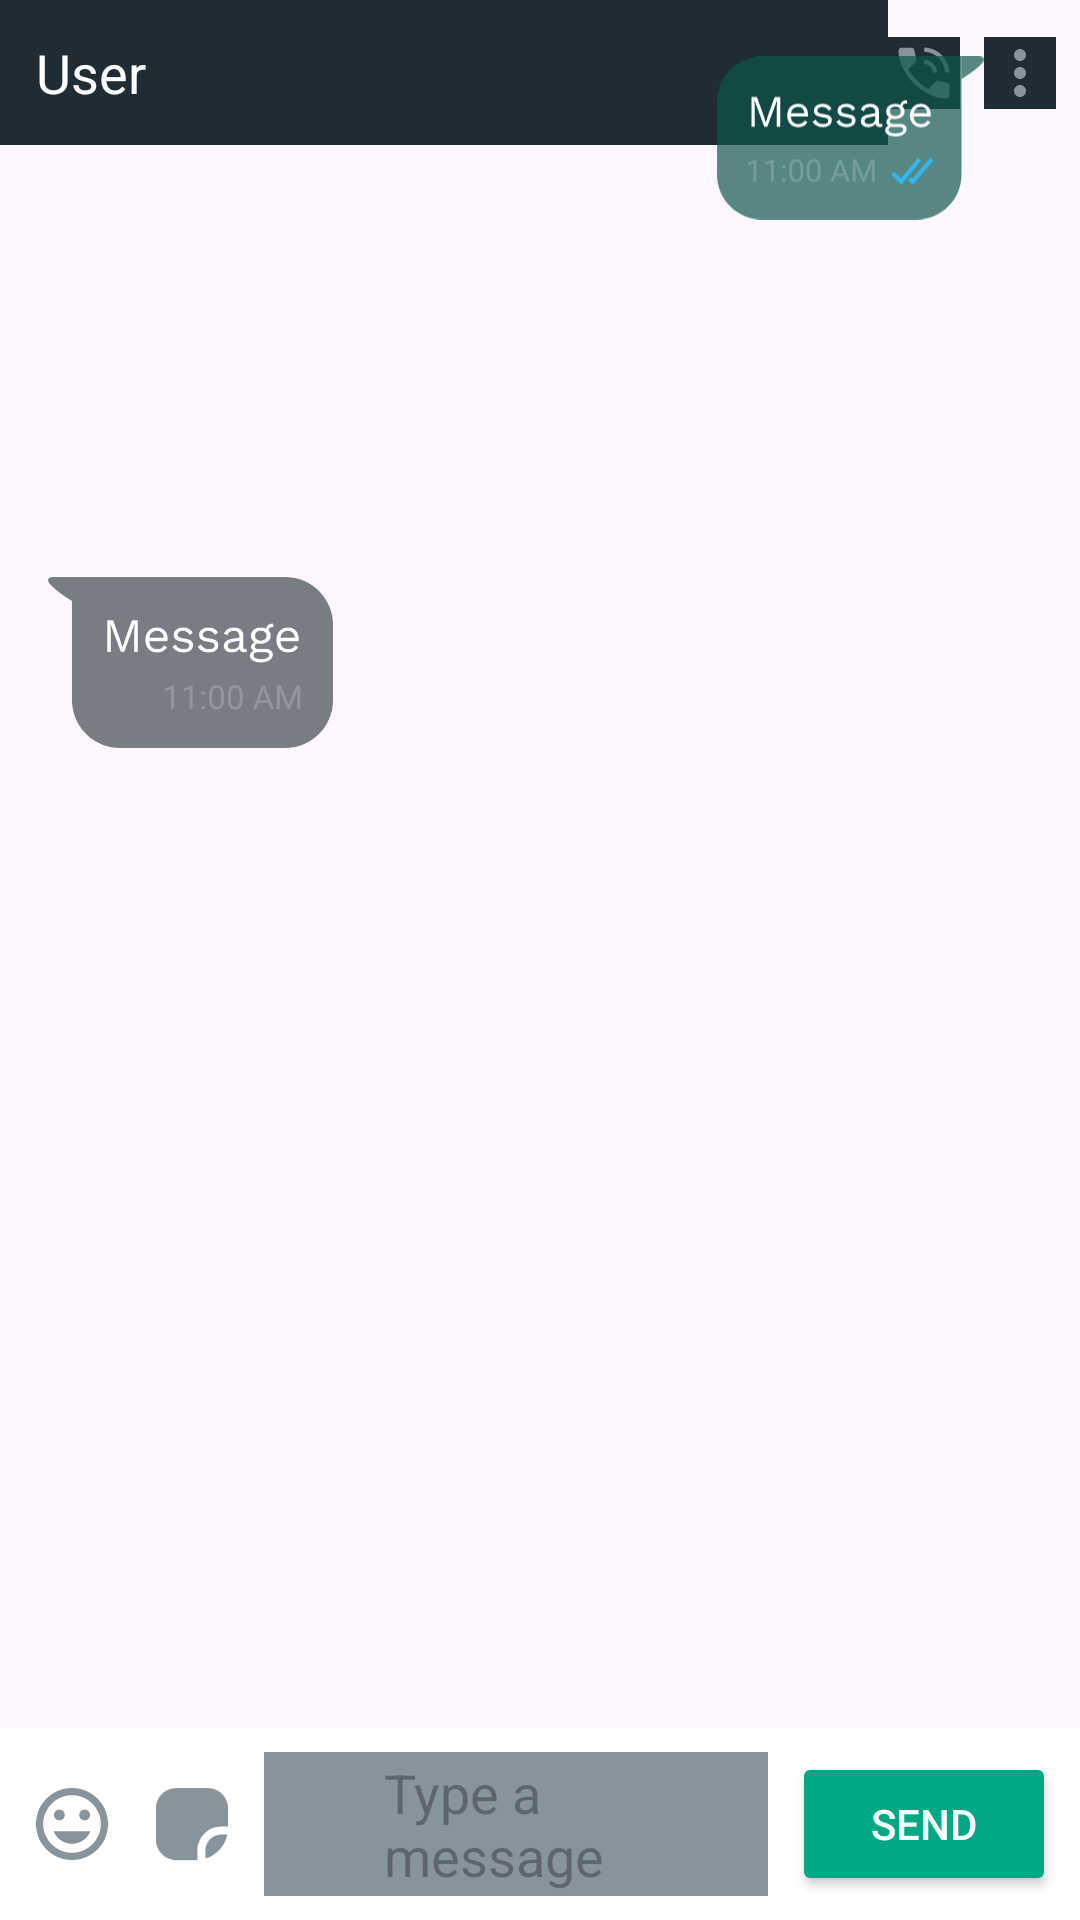

Named icons in this screenshot (1080w x 1920h) and their centers, (x,y):
Emoji: (72,1824)
Menu: (1020,73)
